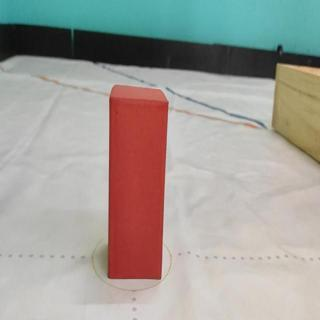redbox: (107, 85, 168, 283)
